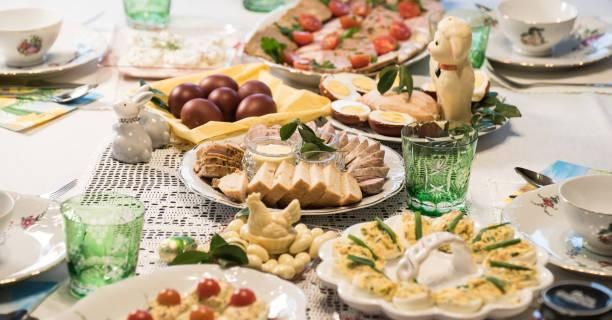Braised Crucian Carp: (317, 211, 552, 320), (180, 132, 400, 214)
